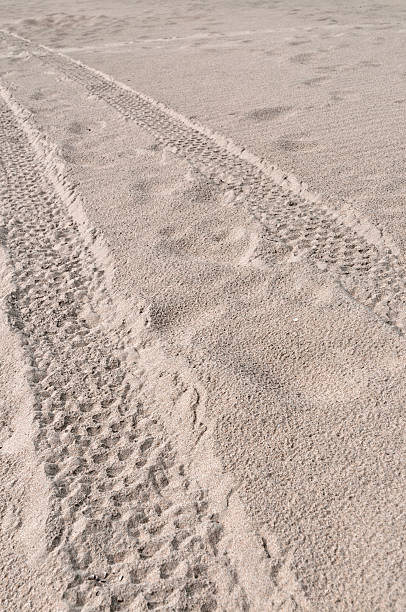vehicle_track: (0, 87, 246, 611), (1, 31, 405, 332)
